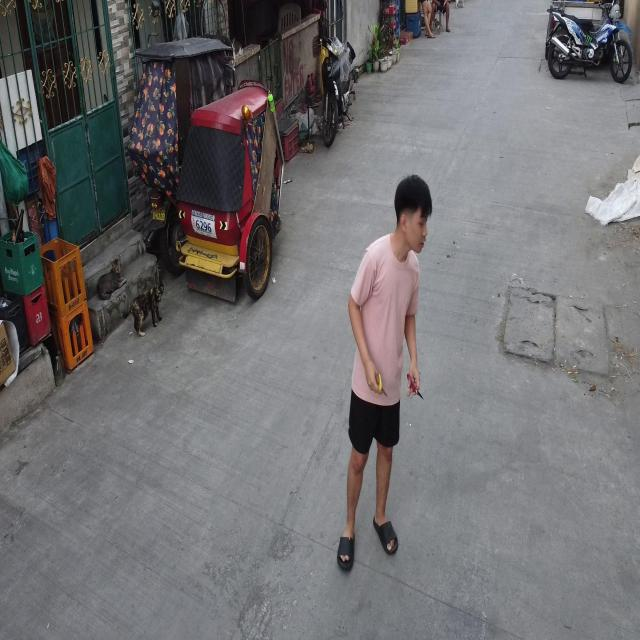scissor: (407, 372, 425, 402), (377, 373, 388, 400)
